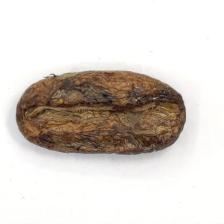NG: (17, 69, 186, 155)
